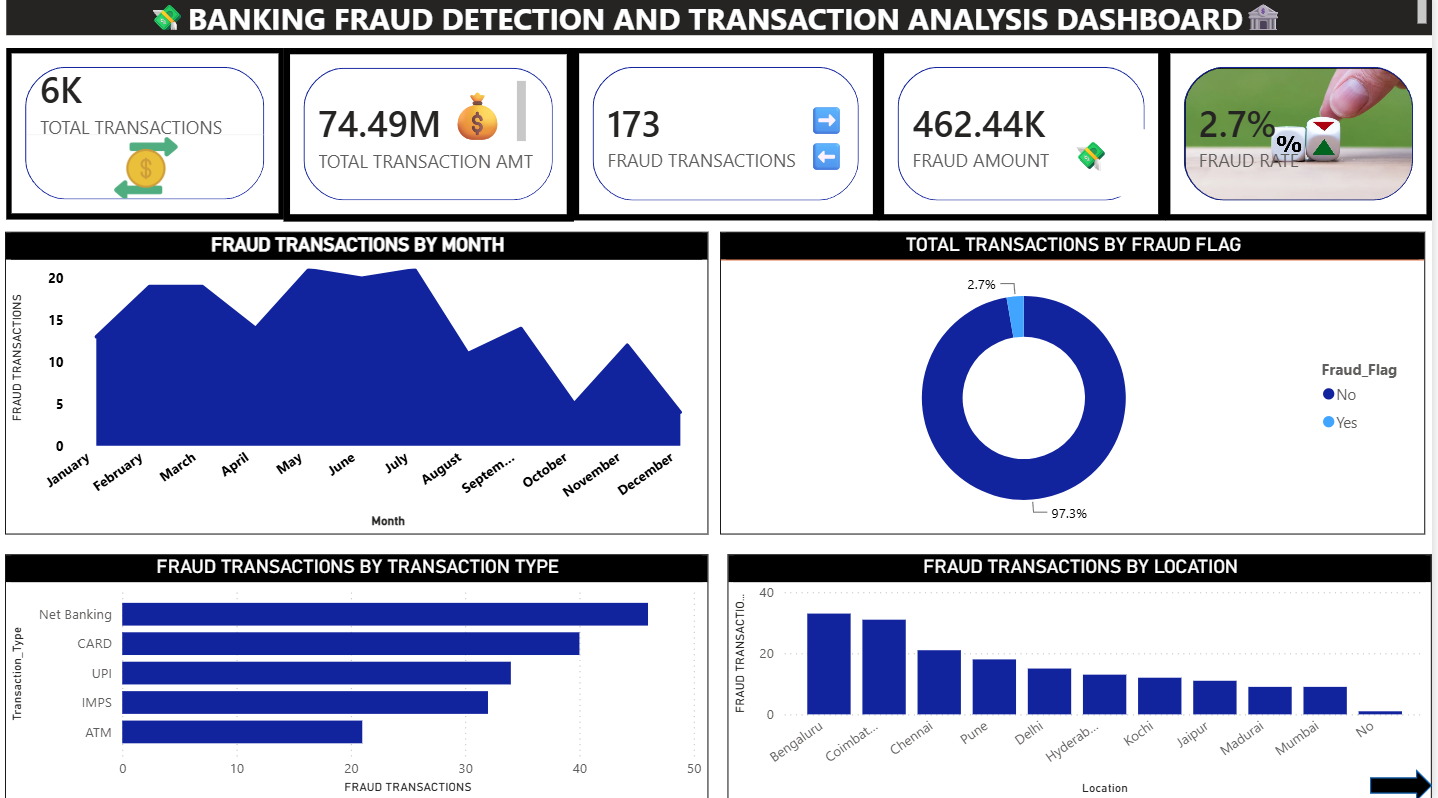

This screenshot's page, from the dashboard's own definition file:
{"tool":"powerbi","page":{"name":"Fraud overview","canvas":[1280,720],"ordinal":0},"visuals":[{"type":"textbox","box":[10,0,1270.1,37.8],"z":0},{"type":"cardVisual","fields":{"Data":["FRAUD DATA.TOTAL TRANSACTIONS"]},"box":[10,49,247.1,152.5],"z":1000},{"type":"cardVisual","fields":{"Data":["FRAUD DATA.TOTAL TRANSACTION AMOUNT"]},"box":[257.1,49,258.3,154.7],"z":2000},{"type":"cardVisual","fields":{"Data":["FRAUD DATA.FRAUD AMOUNT"]},"box":[787,49,254.9,153.6],"z":3000},{"type":"cardVisual","fields":{"Data":["FRAUD DATA.FRAUD RATE"]},"box":[1041.9,49,238.2,153.6],"z":4000},{"type":"cardVisual","fields":{"Data":["FRAUD DATA.FRAUD TRANSACTIONS"]},"box":[515.4,49,271.6,153.6],"z":5000},{"type":"textbox","box":[0,296.4,68.6,63.1],"z":6000},{"type":"textbox","box":[0,521,247,199],"z":7000},{"type":"textbox","box":[395.3,73.3,82.6,65.1],"z":8000},{"type":"lineChart","title":"FRAUD TRANSACTIONS BY MONTH","fields":{"Y":["FRAUD DATA.FRAUD TRANSACTIONS"],"Category":["FRAUD DATA.Transaction_Date.Variation.Date Hierarchy.Month"]},"box":[9.3,212.8,626.7,269.8],"z":9000},{"type":"clusteredBarChart","title":"FRAUD TRANSACTIONS BY TRANSACTION TYPE","fields":{"Y":["FRAUD DATA.FRAUD TRANSACTIONS"],"Category":["FRAUD DATA.Transaction_Type"]},"box":[9.3,500,626.7,219.8],"z":10000},{"type":"donutChart","title":"TOTAL TRANSACTIONS BY FRAUD FLAG","fields":{"Category":["FRAUD DATA.Fraud_Flag"],"Y":["FRAUD DATA.TOTAL TRANSACTIONS"]},"box":[645.4,212.8,627.9,269.8],"z":11000},{"type":"columnChart","title":"FRAUD TRANSACTIONS BY LOCATION","fields":{"Category":["FRAUD DATA.Location"],"Y":["FRAUD DATA.FRAUD TRANSACTIONS"]},"box":[652.7,499.5,627.3,220.8],"z":12000},{"type":"textbox","box":[952.6,121.1,77,59.9],"z":13000},{"type":"textbox","box":[719.1,91.3,40.1,76.8],"z":14000},{"type":"shape","box":[1224.5,691.3,55.5,29],"z":14001}]}

Visuals, with their boxes in screenshot pixels (x1, y1, x2, y2), scaled from the page's 1280x720 canvas onto the 1438x798 screenshot:
textbox: (left=11, top=0, right=1437, bottom=42)
cardVisual - FRAUD DATA.TOTAL TRANSACTIONS: (left=11, top=54, right=289, bottom=223)
cardVisual - FRAUD DATA.TOTAL TRANSACTION AMOUNT: (left=289, top=54, right=579, bottom=226)
cardVisual - FRAUD DATA.FRAUD AMOUNT: (left=884, top=54, right=1171, bottom=225)
cardVisual - FRAUD DATA.FRAUD RATE: (left=1171, top=54, right=1437, bottom=225)
cardVisual - FRAUD DATA.FRAUD TRANSACTIONS: (left=579, top=54, right=884, bottom=225)
textbox: (left=0, top=329, right=77, bottom=398)
textbox: (left=0, top=577, right=277, bottom=797)
textbox: (left=444, top=81, right=537, bottom=153)
"FRAUD TRANSACTIONS BY MONTH" lineChart: (left=10, top=236, right=715, bottom=535)
"FRAUD TRANSACTIONS BY TRANSACTION TYPE" clusteredBarChart: (left=10, top=554, right=715, bottom=797)
"TOTAL TRANSACTIONS BY FRAUD FLAG" donutChart: (left=725, top=236, right=1430, bottom=535)
"FRAUD TRANSACTIONS BY LOCATION" columnChart: (left=733, top=554, right=1437, bottom=797)
textbox: (left=1070, top=134, right=1157, bottom=201)
textbox: (left=808, top=101, right=853, bottom=186)
shape: (left=1376, top=766, right=1437, bottom=797)
